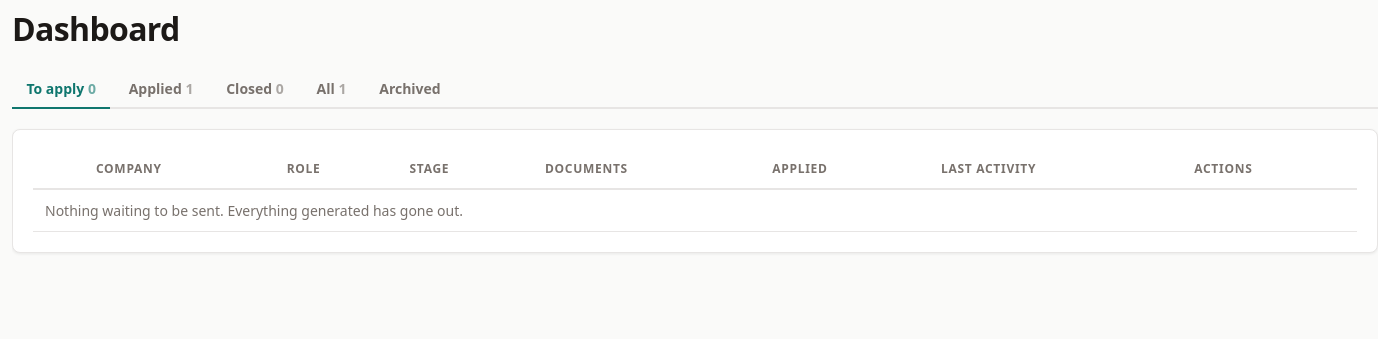
DashboardScreen › refreshes the table even when an action fails
Click the button "All 1" at {"x": 332, "y": 89}, box 302,70 -> 361,109
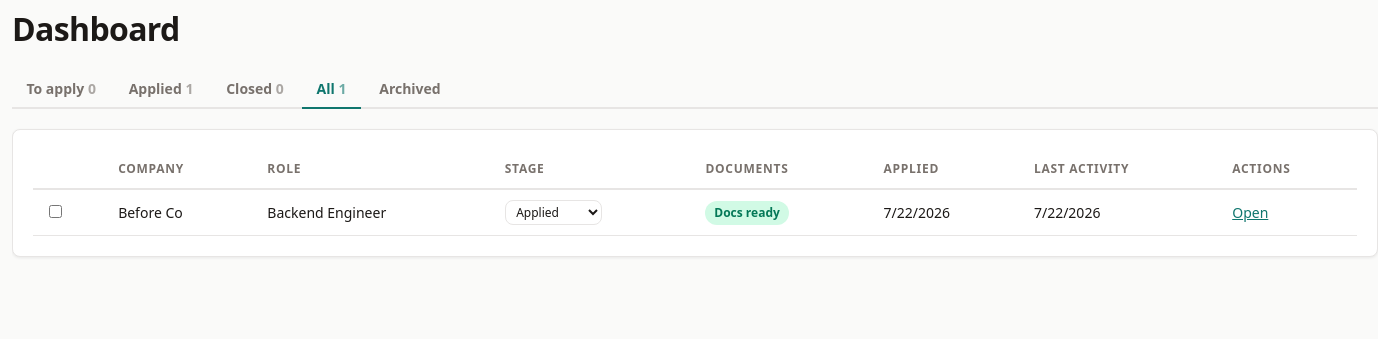
Expected: the text "Before Co" is shown, 106,189 -> 255,236
Select "Offer" in the dropdown named "stage for row 1" at {"x": 553, "y": 213}, box 505,200 -> 602,226
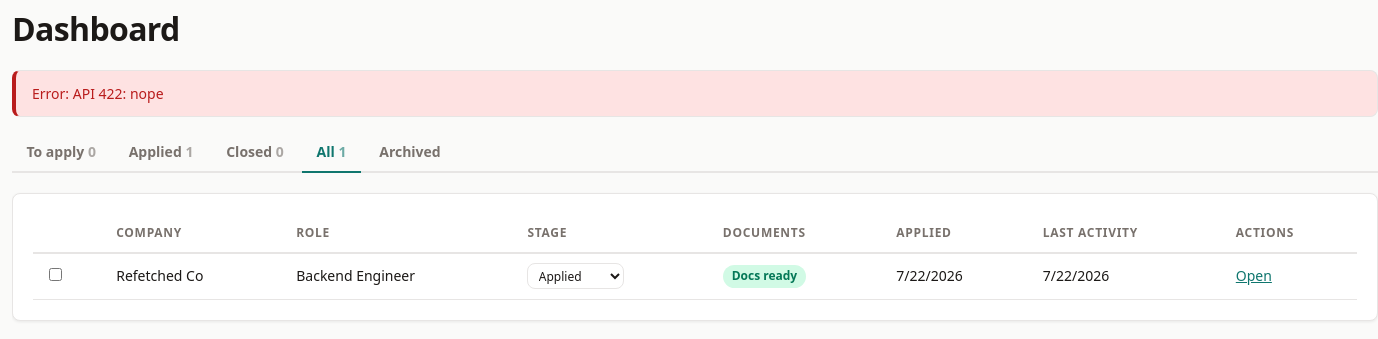
Expected: the text "Error: API 422: nope" is shown, 12,70 -> 1377,117
Expected: the text "Refetched Co" is shown, 104,253 -> 284,299
